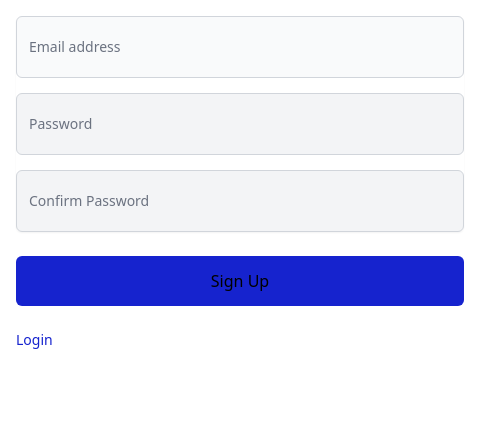
Test case: Sign up component - Equivalence Class testing / Boundary value testing › displays error message for empty email address
The width and height of the screenshot is (481, 440).
Click the button: (240, 281) [16,256,464,306]
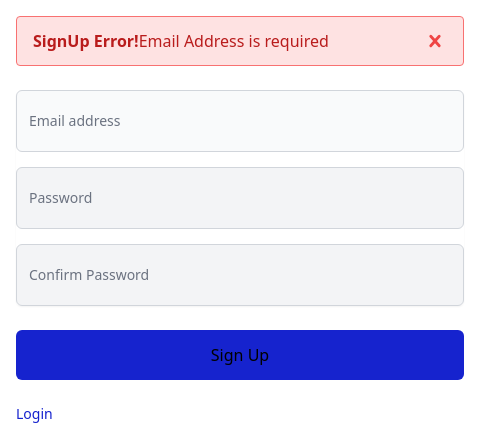
Check: the text "Email Address is required" is shown, box [139,30,329,52]
